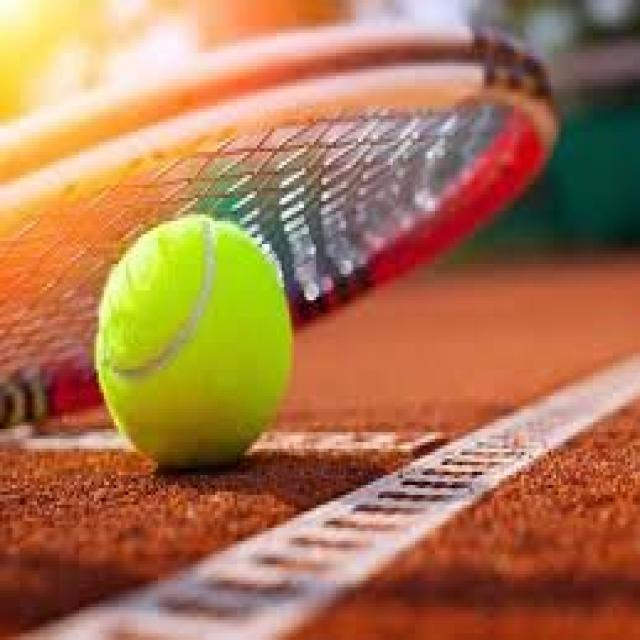ball: (101, 215, 292, 466)
